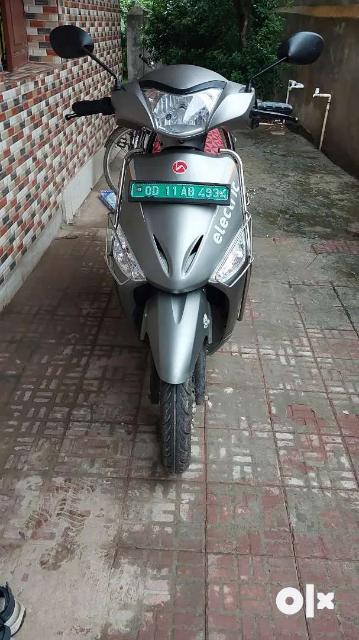Indian_Number_Plate: (129, 181, 231, 203)
